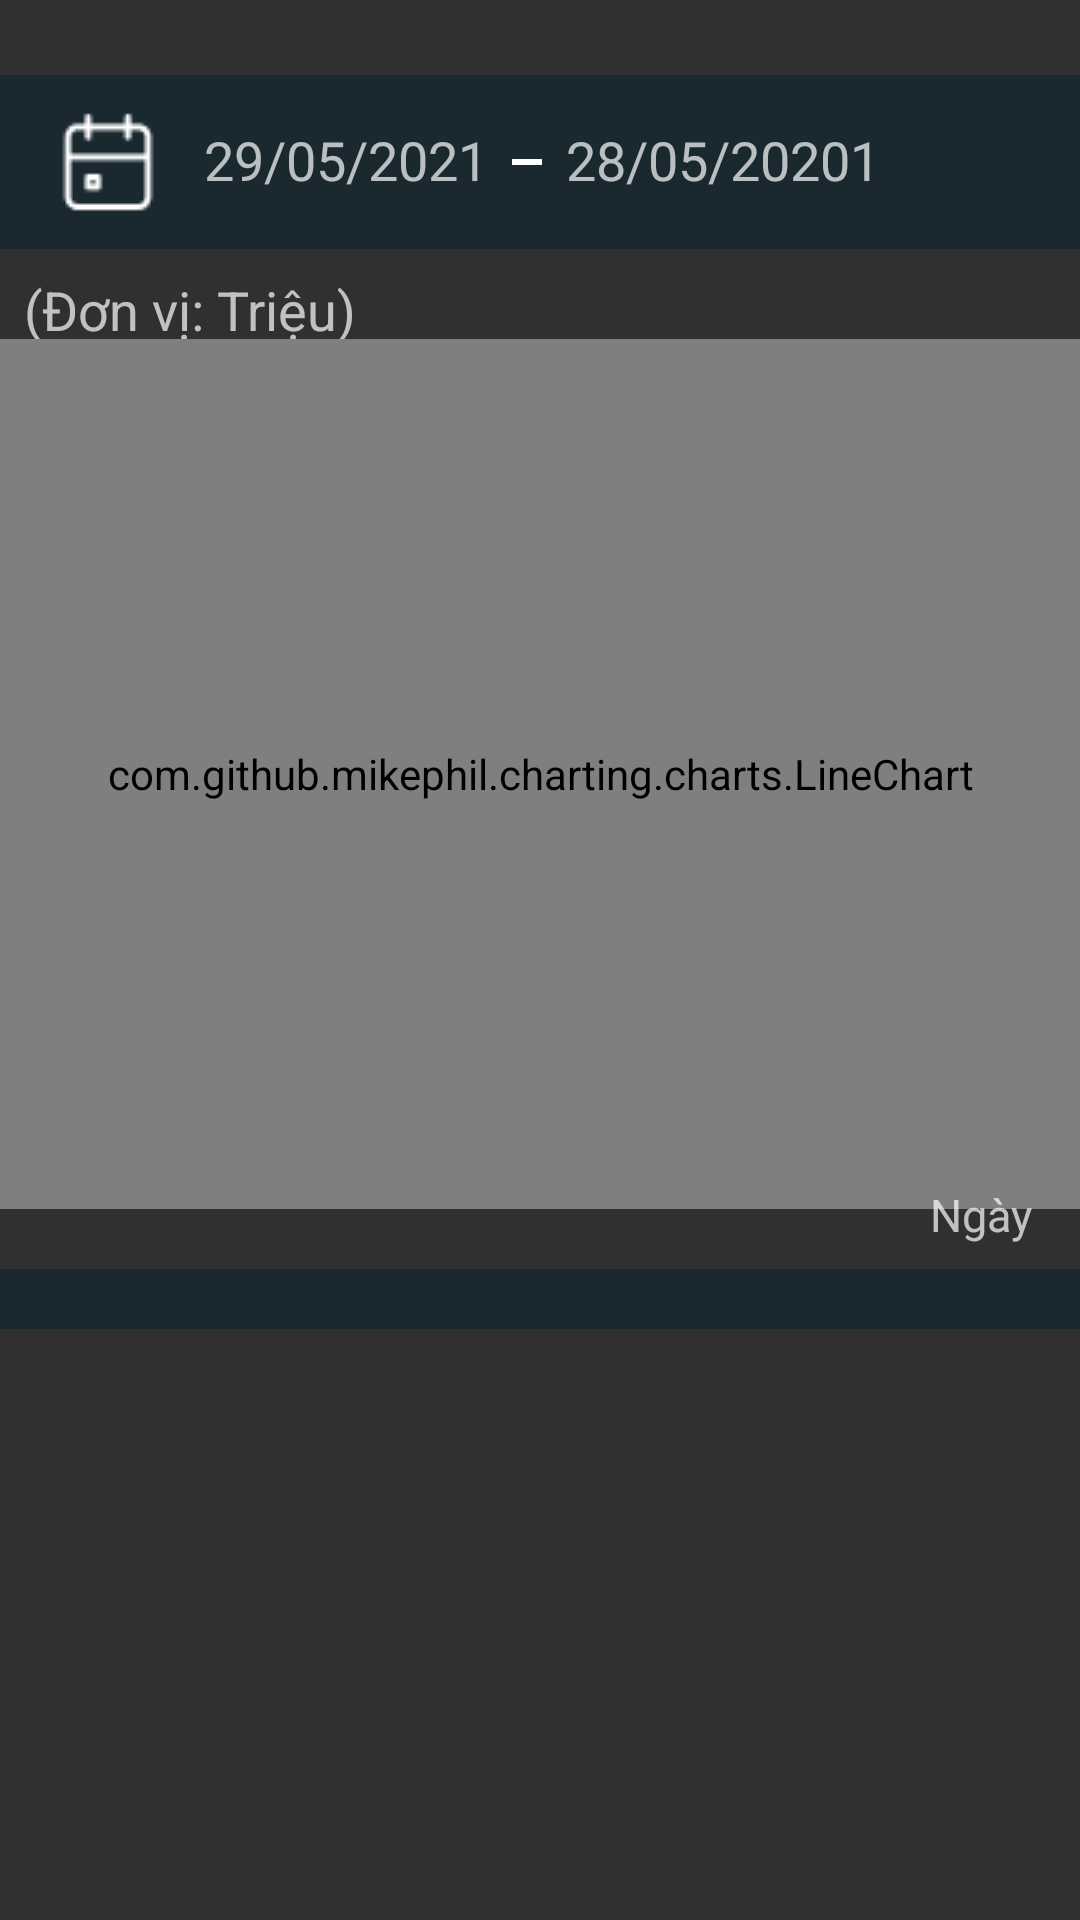

Screen size 1080*1920. Icon name, then its center in pixels as point (x, y):
calendar: point (108, 162)
